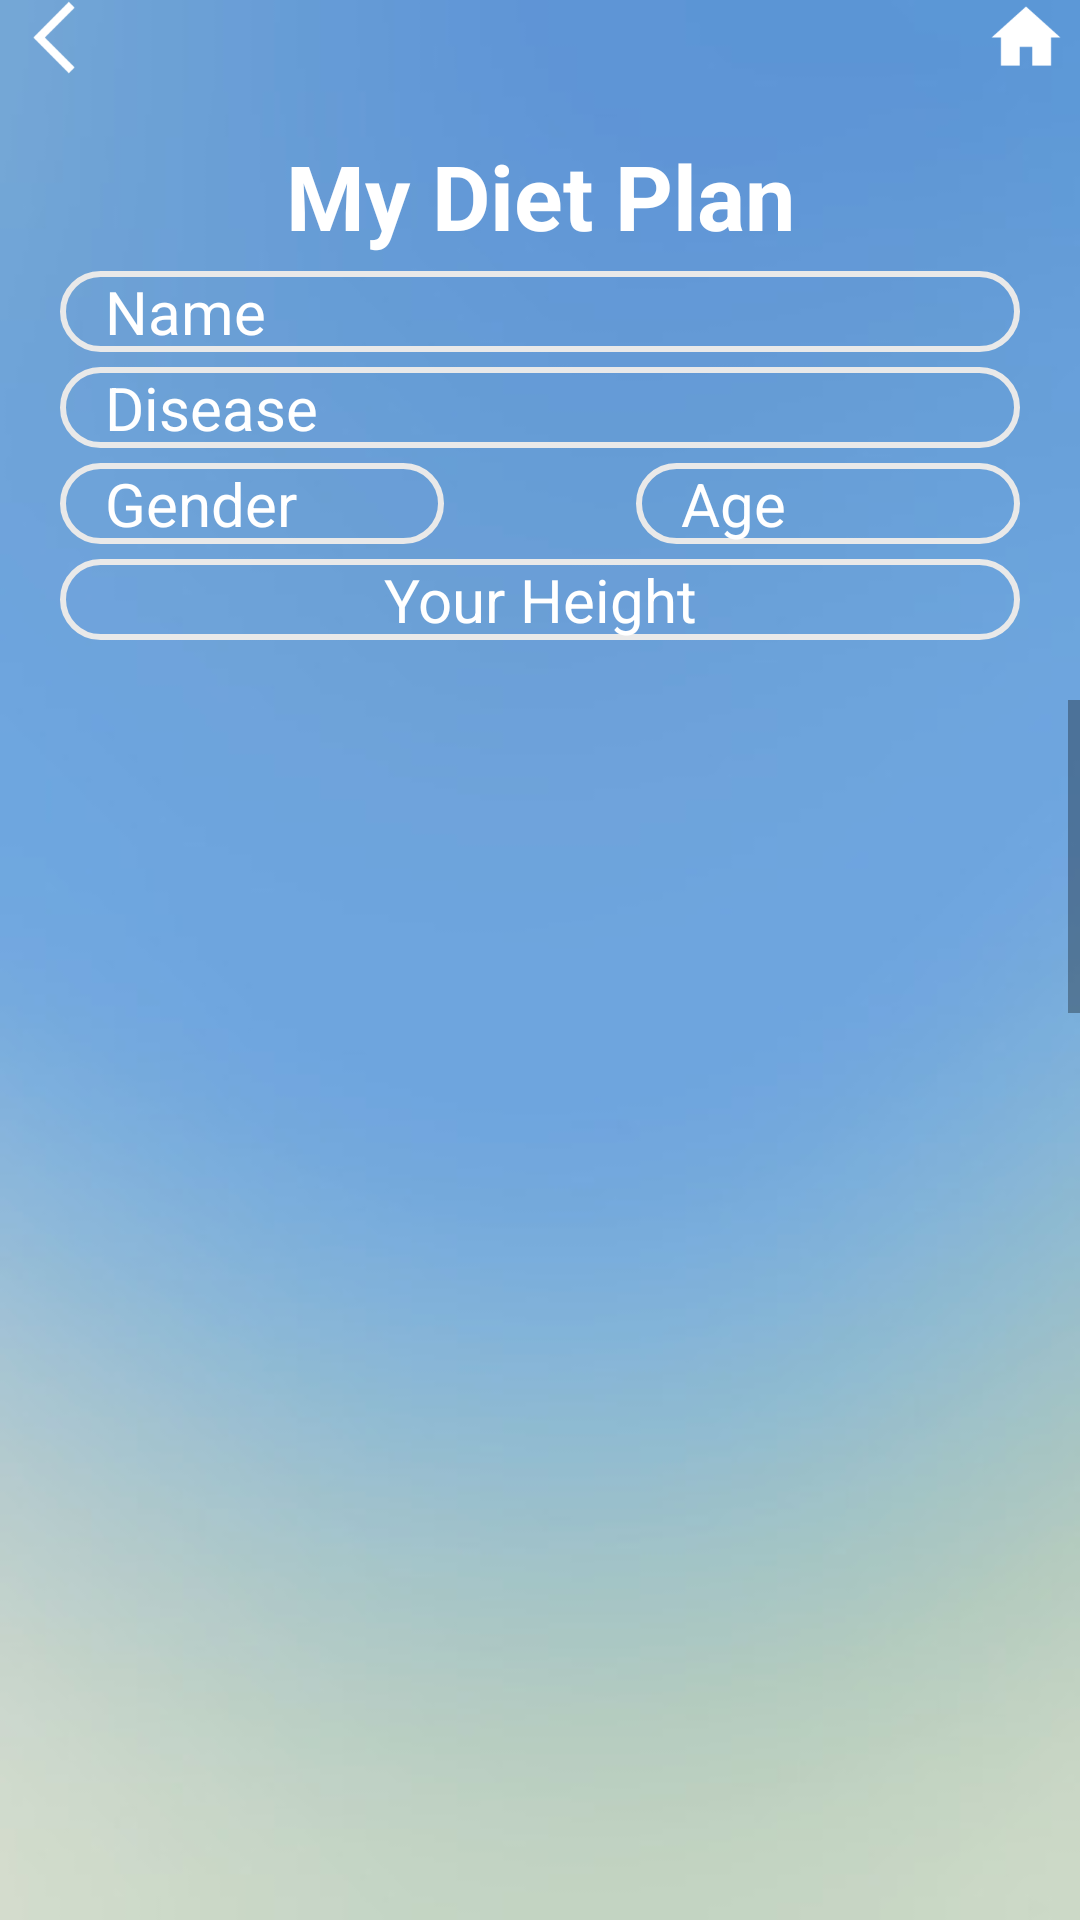

Where to tap for icons on this 1080w x 1920h app screen, as (x,y):
back: (54,37)
home: (1026,36)
